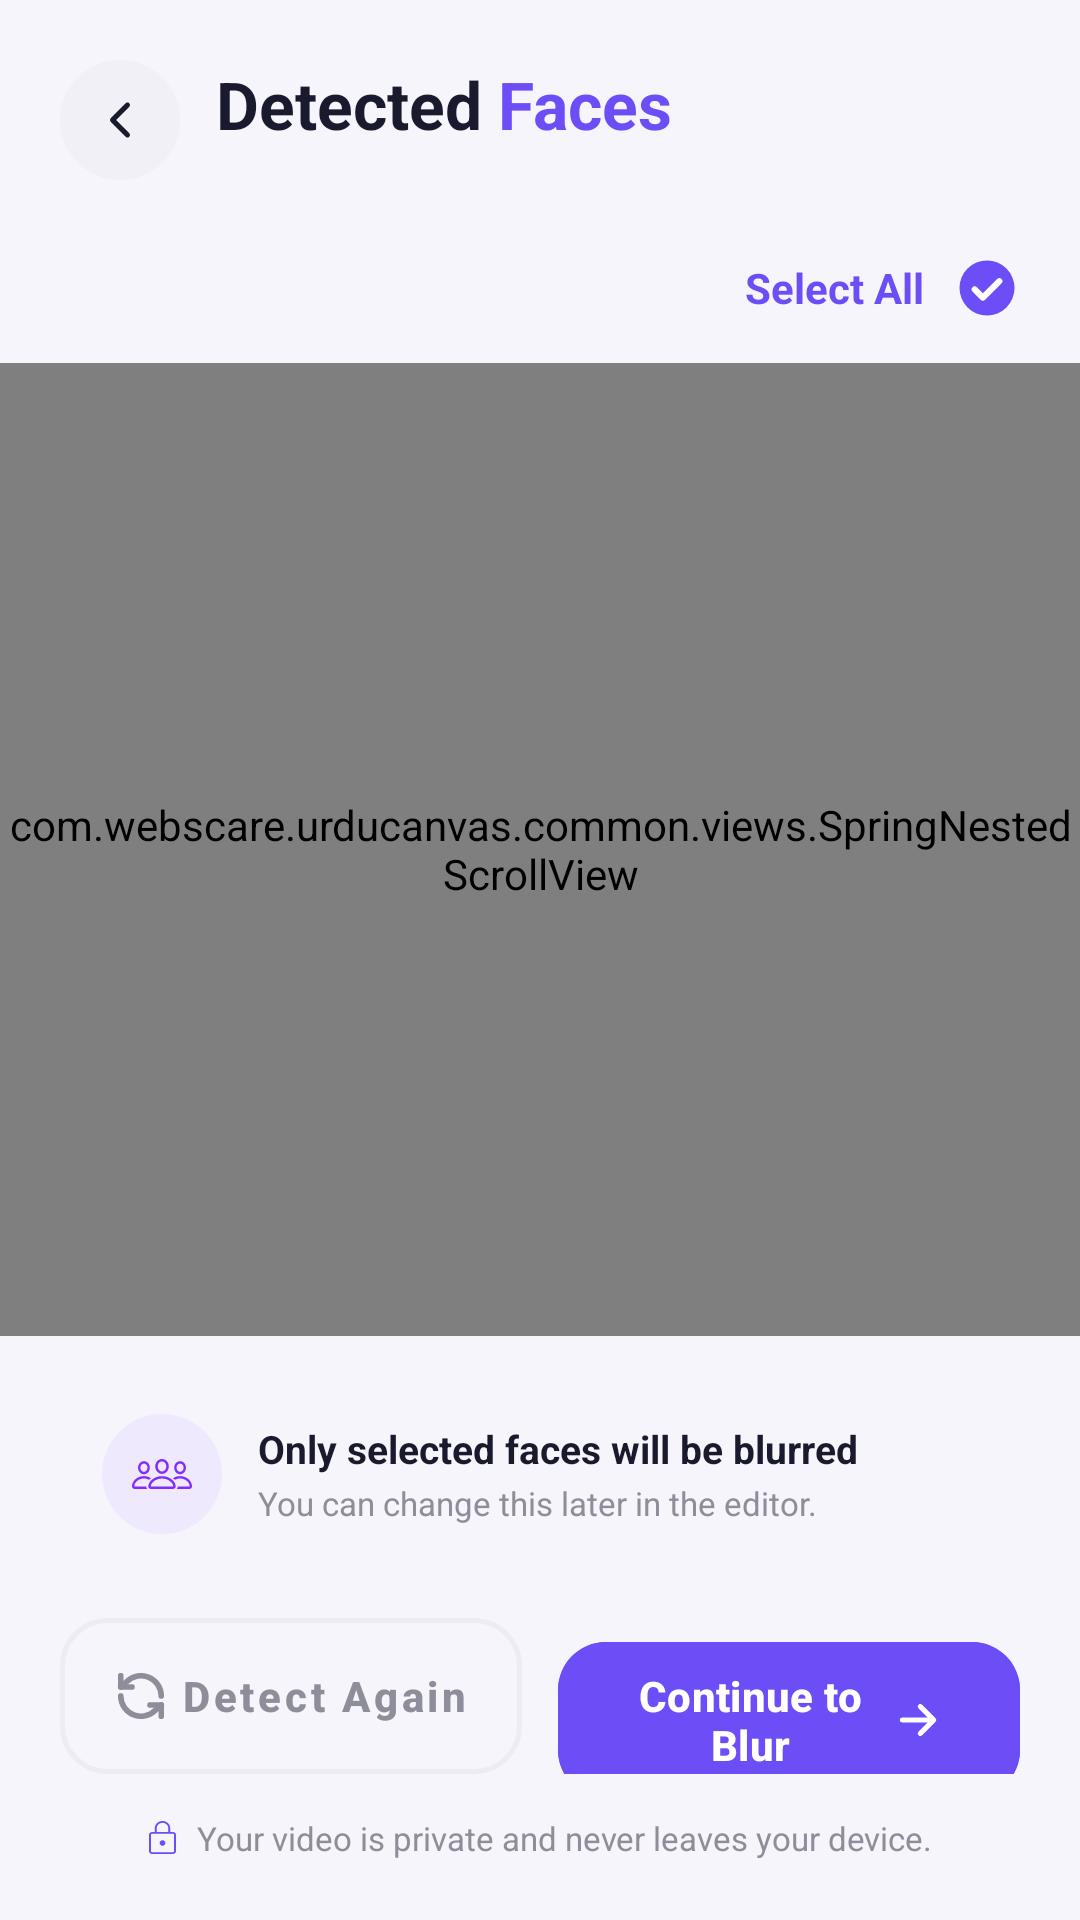

Icons on this 1080 × 1920 Android screen, each with the point to tap as (x=x, y=y):
Back: (x=120, y=120)
lock: (x=162, y=1837)
people: (x=162, y=1474)
